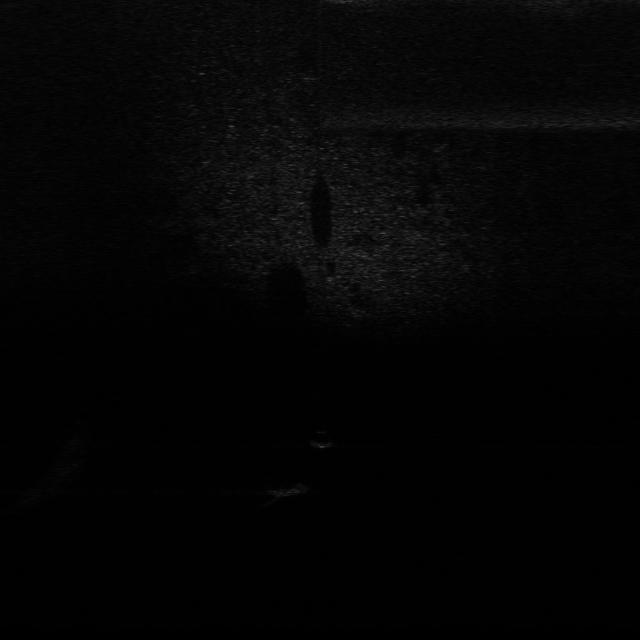ball: (307, 428, 337, 449)
square cage: (266, 478, 314, 501)
